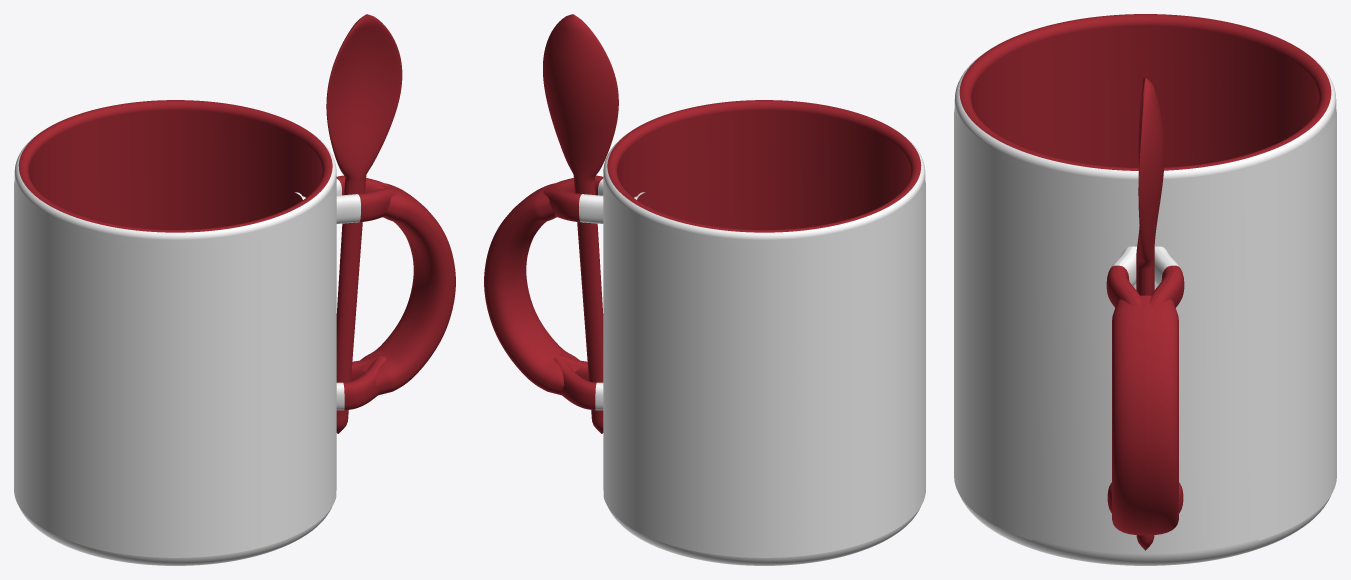
The model's file is caneca_colher.glb.
3 renders of one model, left to right at view 1: azimuth 30°, elevation 25°; view 2: azimuth 150°, elevation 25°; view 3: azimuth 270°, elevation 25°, orthographic. The views are drawn at different scales.
Parts seen in each view (by area): view 1: Area_Arte, Interior_Caneca, Colher_Ceramica, Arco_Alca, Corpo_Externo, Olhal_Superior_Frente, Olhal_Inferior_Frente; view 2: Area_Arte, Interior_Caneca, Colher_Ceramica, Arco_Alca, Corpo_Externo, Olhal_Superior_Tras, Olhal_Inferior_Tras; view 3: Corpo_Externo, Area_Arte, Interior_Caneca, Arco_Alca, Colher_Ceramica, Olhal_Superior_Frente, Olhal_Superior_Tras.
Boxes of the visible parts, left/top/right/bottom form: Area_Arte: left=14, top=181, right=336, bottom=557; Interior_Caneca: left=18, top=100, right=332, bottom=232; Colher_Ceramica: left=326, top=14, right=402, bottom=433; Arco_Alca: left=359, top=183, right=455, bottom=395; Corpo_Externo: left=14, top=120, right=336, bottom=565; Olhal_Superior_Frente: left=301, top=188, right=396, bottom=223; Olhal_Inferior_Frente: left=336, top=356, right=386, bottom=410; Area_Arte: left=603, top=181, right=925, bottom=557; Interior_Caneca: left=607, top=100, right=921, bottom=232; Colher_Ceramica: left=543, top=14, right=618, bottom=433; Arco_Alca: left=484, top=183, right=580, bottom=395; Corpo_Externo: left=603, top=120, right=925, bottom=565; Olhal_Superior_Tras: left=543, top=188, right=638, bottom=223; Olhal_Inferior_Tras: left=553, top=356, right=603, bottom=410; Corpo_Externo: left=954, top=37, right=1336, bottom=565; Area_Arte: left=954, top=109, right=1336, bottom=540; Interior_Caneca: left=959, top=14, right=1331, bottom=170; Arco_Alca: left=1112, top=295, right=1178, bottom=535; Colher_Ceramica: left=1136, top=78, right=1164, bottom=550; Olhal_Superior_Frente: left=1106, top=246, right=1141, bottom=307; Olhal_Superior_Tras: left=1149, top=246, right=1184, bottom=307.
Bounding box in the file's own units: 0.1214 × 0.1245 × 0.0823.
Materials: 4 (1 with a texture image).
